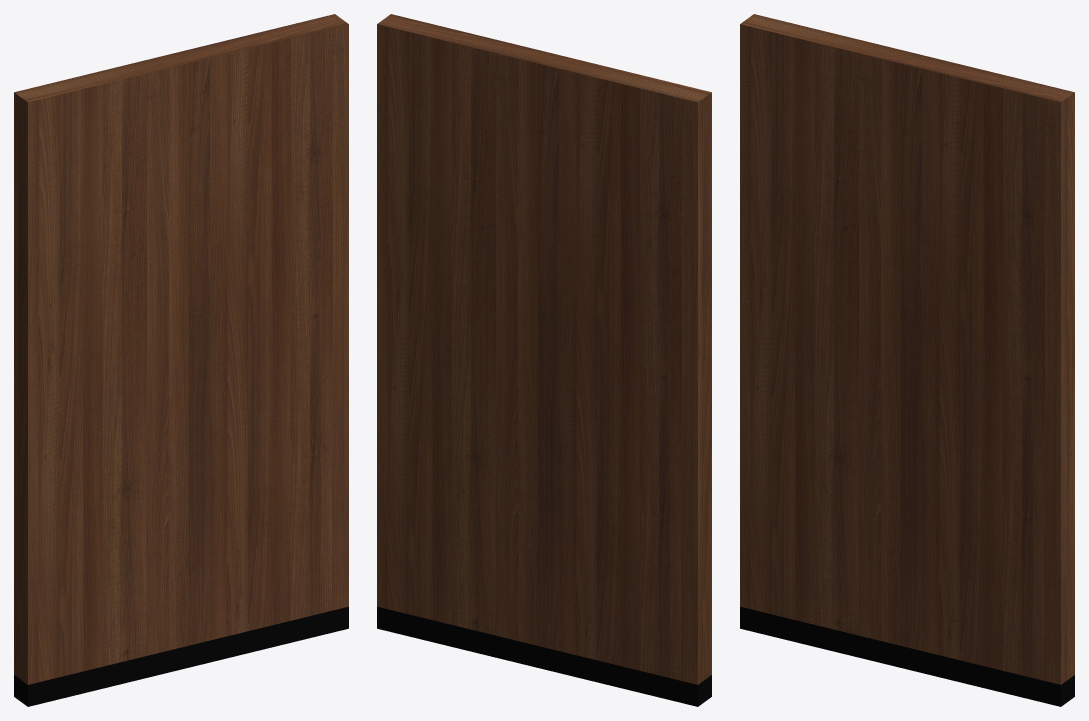
The model's file is ARC0210052.fbx.
3 renders of one model, left to right at view 1: azimuth 30°, elevation 25°; view 2: azimuth 150°, elevation 25°; view 3: azimuth 330°, elevation 25°, orthographic.
Parts seen in each view (by area): view 1: smARC0210052; view 2: smARC0210052; view 3: smARC0210052.
Boxes of the visible parts, x1,y1,x2,y2 form: smARC0210052: [14, 14, 348, 706]; smARC0210052: [377, 14, 711, 706]; smARC0210052: [740, 14, 1074, 706].
Bounding box in the file's own units: 182 × 328 × 13.67.
1 material, 1 textured.
